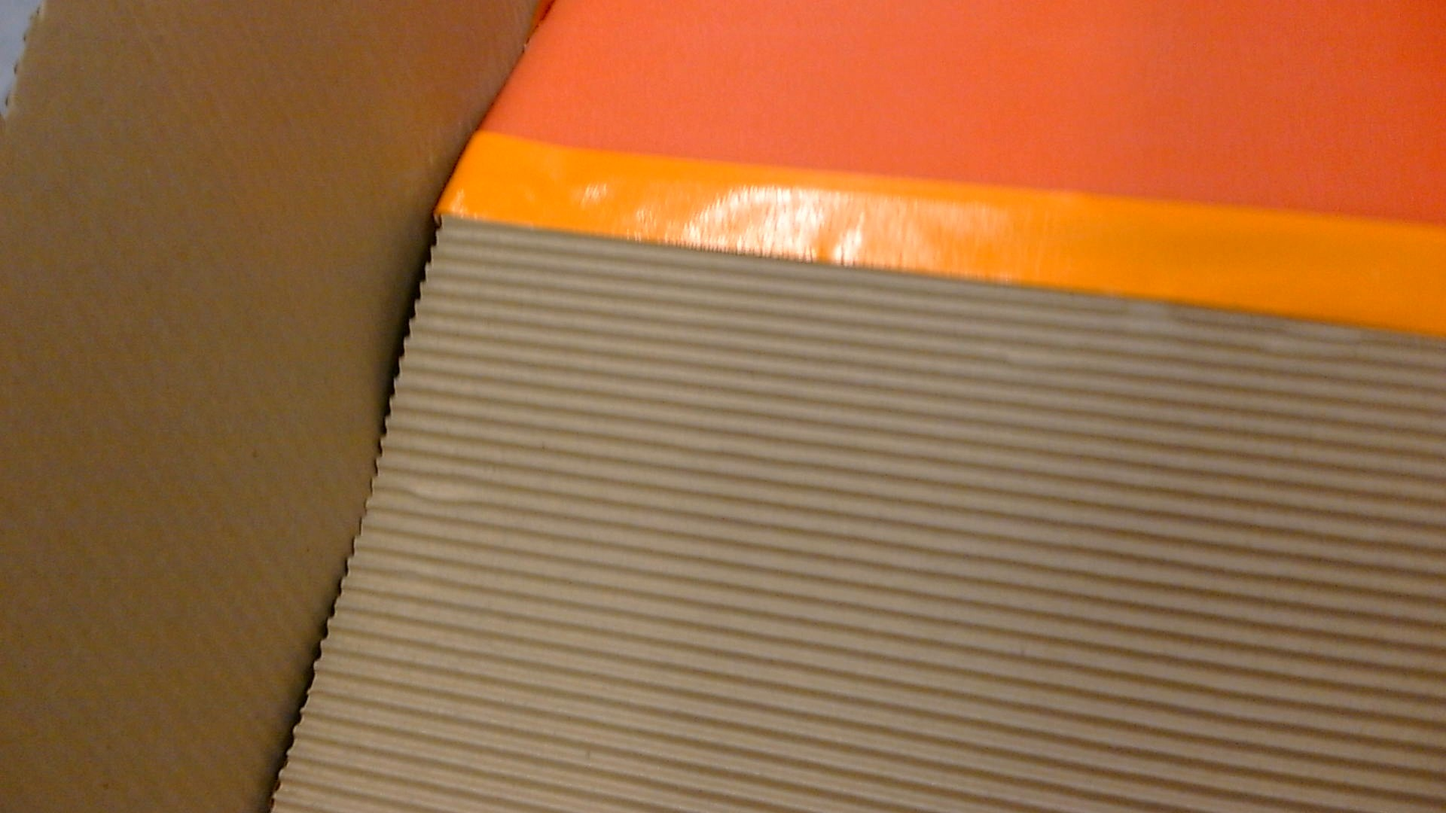Ramp: (0, 0, 1445, 812), (341, 240, 559, 446)
